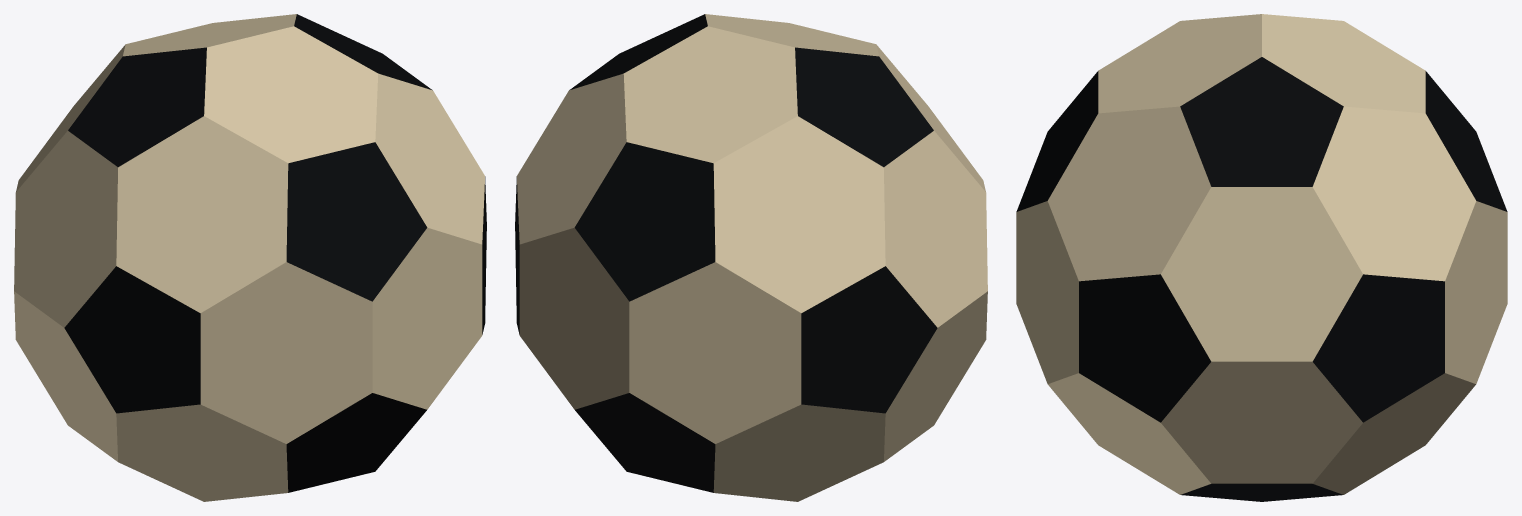
Rendered from soccer_ball.obj.
3 views of the same model, side by side, from view 1: azimuth 30°, elevation 25°; view 2: azimuth 150°, elevation 25°; view 3: azimuth 270°, elevation 25° (orthographic).
Parts seen in each view (by area): view 1: SoccerBall_TruncatedIcosahedron; view 2: SoccerBall_TruncatedIcosahedron; view 3: SoccerBall_TruncatedIcosahedron.
Part boxes in pixels (x1=…): SoccerBall_TruncatedIcosahedron: x1=14, y1=14, x2=486, y2=501; SoccerBall_TruncatedIcosahedron: x1=515, y1=14, x2=987, y2=501; SoccerBall_TruncatedIcosahedron: x1=1016, y1=14, x2=1507, y2=501.
Bounding box in the file's own units: 1.96 × 1.96 × 1.96.
